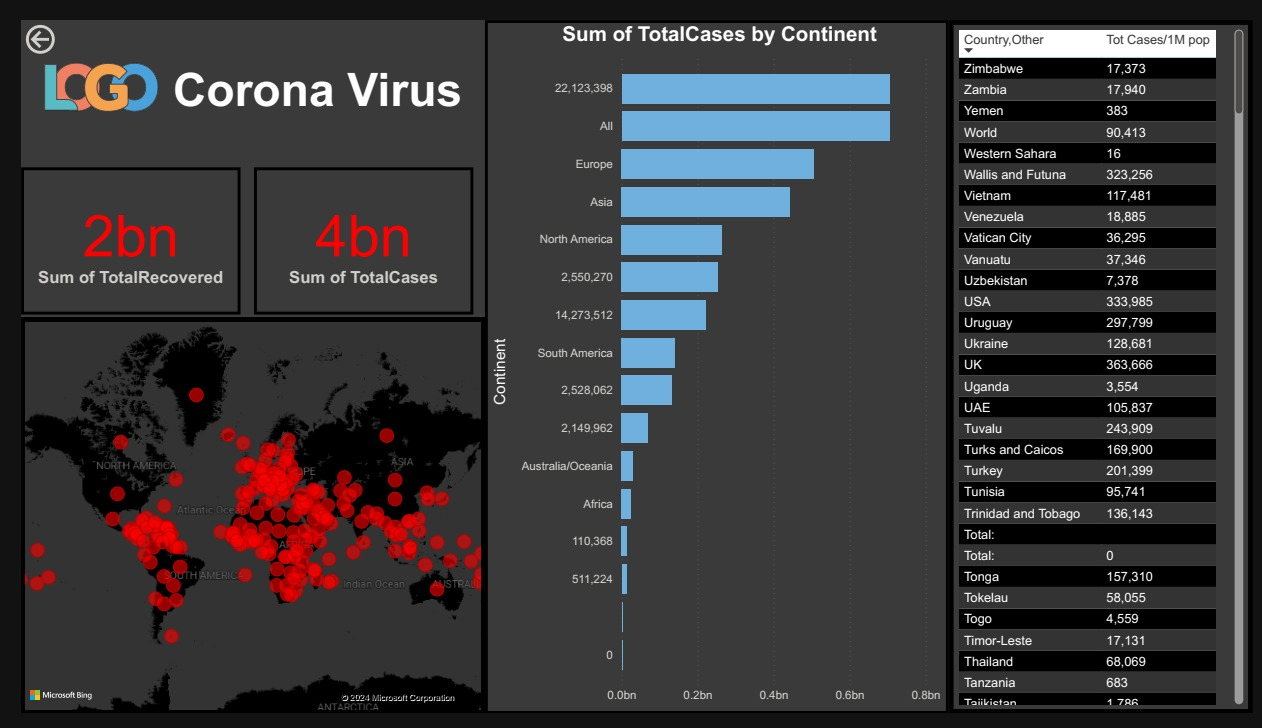

The dashboard page shown, as its layout file describes it:
{"tool":"powerbi","page":{"name":"Page 1","canvas":[1280,720],"ordinal":0},"visuals":[{"type":"map","fields":{"Category":["Table 1.Country,Other"]},"box":[0,309.1,482.1,411.5],"z":0},{"type":"card","fields":{"Values":["Sum(Table 1.TotalCases)"]},"box":[241.9,152.9,228.5,152.9],"z":1000},{"type":"card","fields":{"Values":["Sum(Table 1.TotalRecovered)"]},"box":[0,152.9,228.5,152.9],"z":2000},{"type":"actionButton","box":[0,0,100,40],"z":3000},{"type":"tableEx","fields":{"Values":["Table 1.Country,Other","Table 1.Tot Cases/1M pop"]},"box":[964.2,0,315.8,720.6],"z":4000},{"type":"clusteredBarChart","fields":{"Category":["Table 1.Continent"],"Y":["Sum(Table 1.TotalCases)"]},"box":[482.1,0,482.1,720.6],"z":5000},{"type":"textbox","box":[152.9,40.3,317.5,92.4],"z":5001},{"type":"image","box":[11.8,20.2,141.1,97.4],"z":5002}]}

Visuals, with their boxes in screenshot pixels (x1, y1, x2, y2), scaled from the page's 1280x720 canvas onto the 1262x728 screenshot:
map - Table 1.Country,Other: box(0, 313, 475, 727)
card - Sum(Table 1.TotalCases): box(238, 155, 464, 309)
card - Sum(Table 1.TotalRecovered): box(0, 155, 225, 309)
actionButton: box(0, 0, 99, 40)
tableEx - Table 1.Country,Other x Table 1.Tot Cases/1M pop: box(951, 0, 1261, 727)
clusteredBarChart - Table 1.Continent x Sum(Table 1.TotalCases): box(475, 0, 951, 727)
textbox: box(151, 41, 464, 134)
image: box(12, 20, 151, 119)
